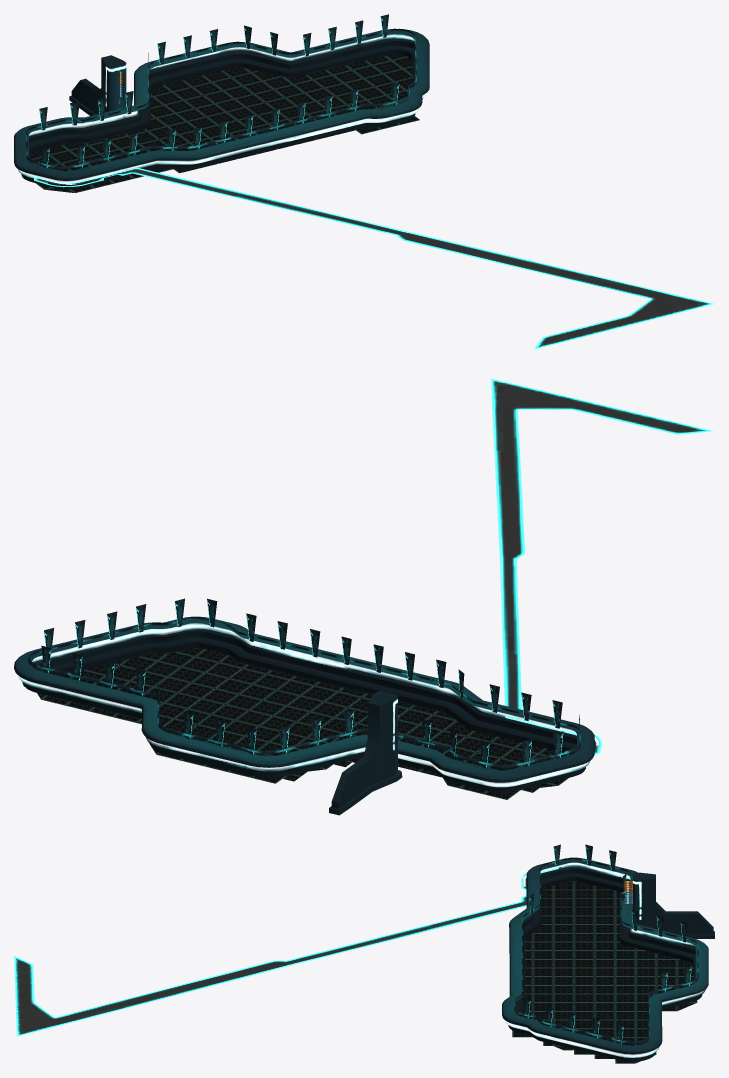
Rendered from light_cycle_arena.glb.
The picture shows the model from 3 angles, top to bottom: view 1: azimuth 30°, elevation 25°; view 2: azimuth 150°, elevation 25°; view 3: azimuth 270°, elevation 25°; orthographic projection. The views are drawn at different scales.
Parts seen in each view (by area): view 1: light_cycle_arena1, light, ref_tron_gridfloor.smd.002, ref_tron_gridfloor.smd.004, ref_tron_gridfloor.smd.010, ref_tron_gridfloor.smd.001, ref_tron_gridfloor.smd.003, ref_tron_gridfloor.smd.016, ref_tron_gridfloor.smd.007, ref_tron_gridfloor.smd.013, ref_tron_gridfloor.smd.019, ref_tron_gridfloor.smd.011; view 2: light_cycle_arena1, light, ref_tron_gridfloor.smd.004, ref_tron_gridfloor.smd.011, ref_tron_gridfloor.smd.005, ref_tron_gridfloor.smd.001, ref_tron_gridfloor.smd, ref_tron_gridfloor.smd.010, ref_tron_gridfloor.smd.017, ref_tron_gridfloor.smd.012, ref_tron_gridfloor.smd.003, ref_tron_gridfloor.smd.007 (+3 smaller); view 3: light_cycle_arena1, light, ref_tron_gridfloor.smd.001, ref_tron_gridfloor.smd.004, ref_tron_gridfloor.smd.016, ref_tron_gridfloor.smd.010, ref_tron_gridfloor.smd.002, ref_tron_gridfloor.smd, ref_tron_gridfloor.smd.017, ref_tron_gridfloor.smd.013, ref_tron_gridfloor.smd.005, ref_tron_gridfloor.smd.019 (+4 smaller).
Boxes of the visible parts, x1,y1,x2,y2 form: light_cycle_arena1: [14, 28, 713, 349]; light: [39, 14, 415, 168]; ref_tron_gridfloor.smd.002: [151, 75, 233, 112]; ref_tron_gridfloor.smd.004: [235, 84, 325, 123]; ref_tron_gridfloor.smd.010: [294, 70, 385, 108]; ref_tron_gridfloor.smd.001: [176, 99, 268, 138]; ref_tron_gridfloor.smd.003: [203, 67, 292, 98]; ref_tron_gridfloor.smd.016: [126, 113, 208, 151]; ref_tron_gridfloor.smd.007: [352, 56, 412, 94]; ref_tron_gridfloor.smd.013: [62, 134, 149, 165]; ref_tron_gridfloor.smd.019: [31, 145, 90, 170]; ref_tron_gridfloor.smd.011: [330, 95, 419, 134]; light_cycle_arena1: [14, 378, 713, 815]; light: [41, 598, 579, 768]; ref_tron_gridfloor.smd.004: [174, 688, 285, 735]; ref_tron_gridfloor.smd.011: [145, 648, 247, 688]; ref_tron_gridfloor.smd.005: [215, 664, 318, 705]; ref_tron_gridfloor.smd.001: [245, 706, 357, 749]; ref_tron_gridfloor.smd: [287, 682, 372, 723]; ref_tron_gridfloor.smd.010: [118, 671, 214, 718]; ref_tron_gridfloor.smd.017: [358, 701, 456, 739]; ref_tron_gridfloor.smd.012: [429, 721, 521, 757]; ref_tron_gridfloor.smd.003: [148, 719, 244, 766]; ref_tron_gridfloor.smd.007: [60, 664, 136, 690]; light_cycle_arena1: [14, 857, 714, 1062]; light: [522, 844, 691, 1043]; ref_tron_gridfloor.smd.001: [574, 959, 635, 985]; ref_tron_gridfloor.smd.004: [574, 985, 635, 1011]; ref_tron_gridfloor.smd.016: [574, 933, 635, 959]; ref_tron_gridfloor.smd.010: [574, 1011, 635, 1037]; ref_tron_gridfloor.smd.002: [635, 959, 693, 985]; ref_tron_gridfloor.smd: [525, 959, 573, 985]; ref_tron_gridfloor.smd.017: [524, 933, 573, 959]; ref_tron_gridfloor.smd.013: [574, 907, 621, 933]; ref_tron_gridfloor.smd.005: [525, 985, 573, 1011]; ref_tron_gridfloor.smd.019: [574, 881, 627, 907].
Bounding box in the file's own units: 96.05 × 13.96 × 147.
Materials: 30 (30 with a texture image).
